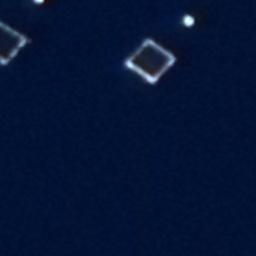square_solid: (124, 37, 177, 86), (1, 21, 30, 67)
